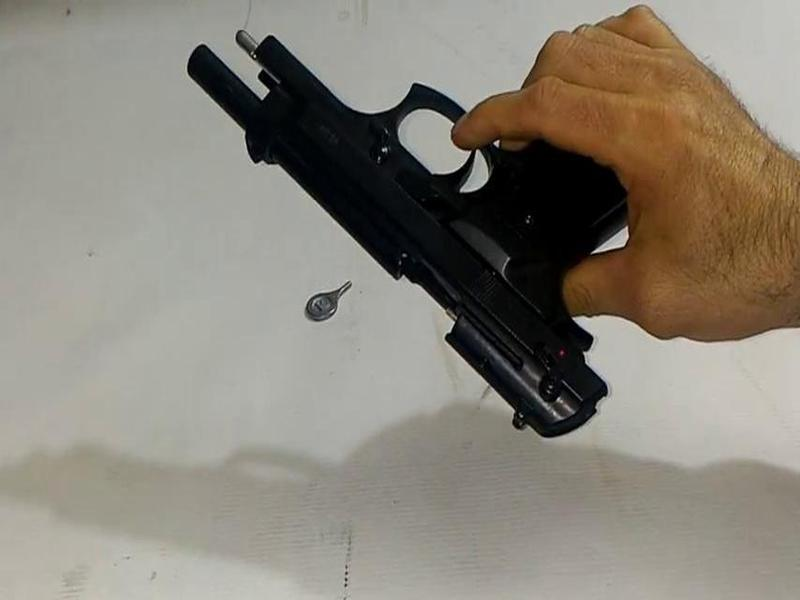Pistola: (166, 21, 696, 454)
